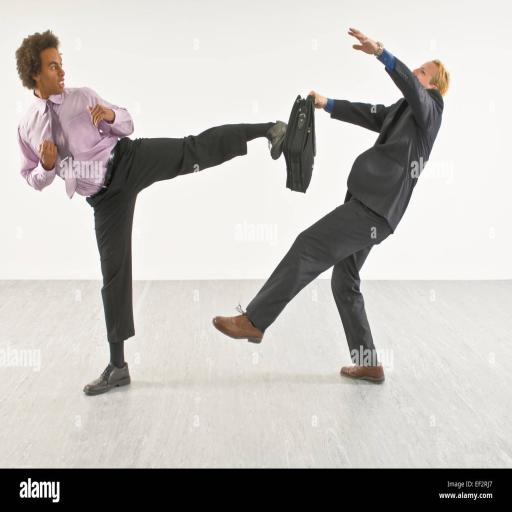fight: (13, 27, 512, 430)
